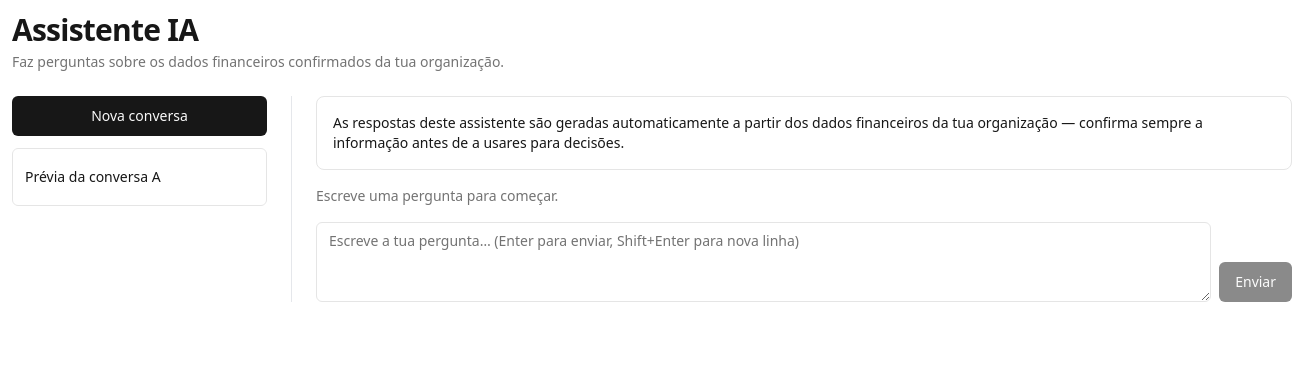
Test: AiChatPage (Fase 8) › uma conversa inacessível (404) mostra erro — nunca o conteúdo de outra conversa
Expected: the text "Prévia da conversa A" is shown, [25,167,161,186]
Click the button "Prévia da conversa A" at (123, 177), box [25,167,221,187]
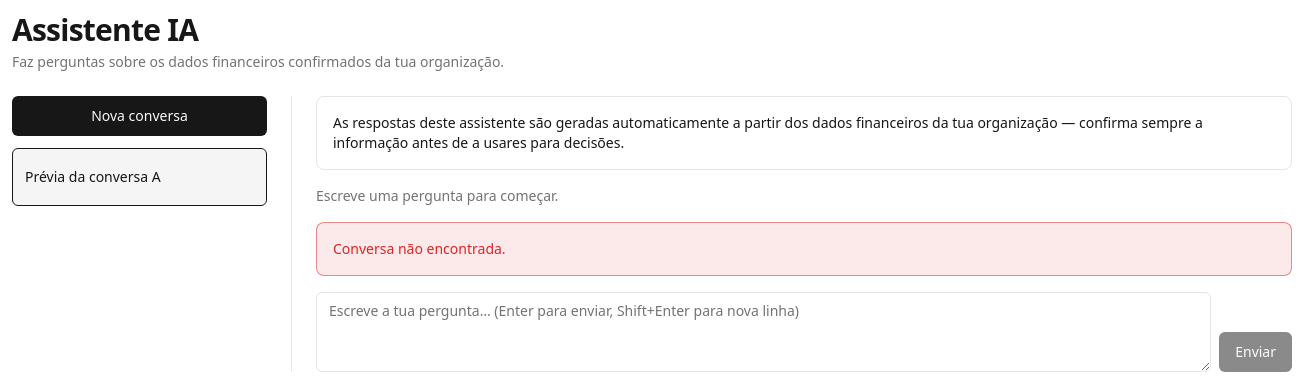
Now the text "Conversa não encontrada." is shown, box [333,239,506,258]
